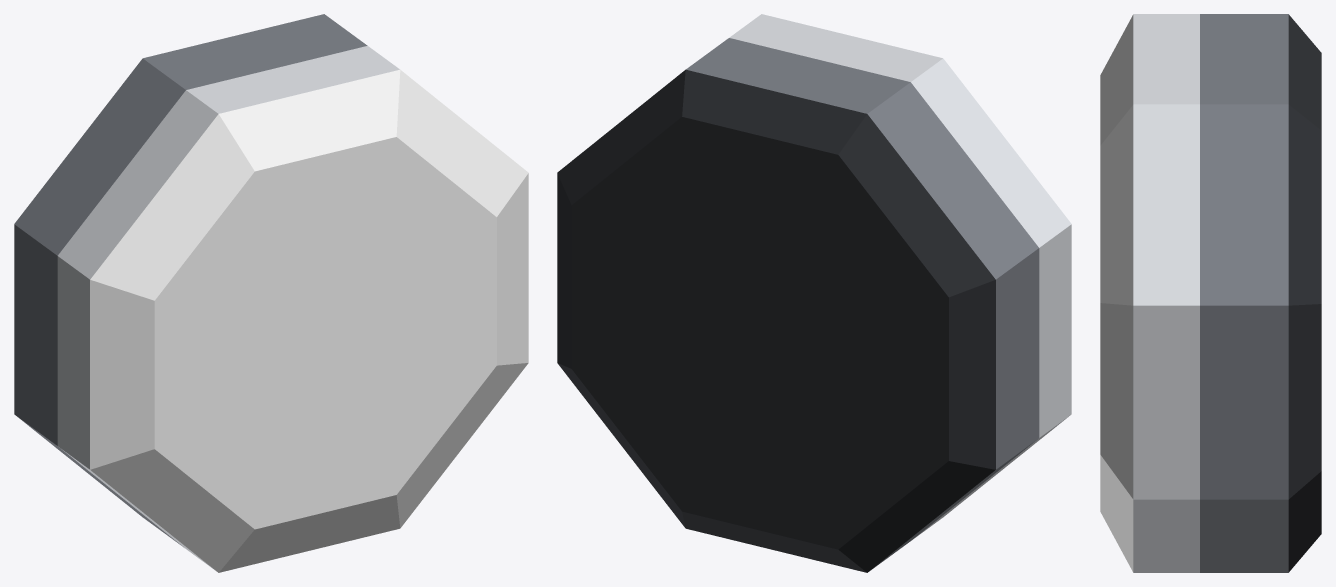
The model's file is ets.gltf.
The picture shows the model from 3 angles, left to right: view 1: azimuth 30°, elevation 25°; view 2: azimuth 150°, elevation 25°; view 3: azimuth 270°, elevation 25°; orthographic projection. The views are drawn at different scales.
Parts seen in each view (by area): view 1: ets; view 2: ets; view 3: ets.
Part boxes in pixels (bbox=[...]): ets: bbox=[14, 14, 528, 572]; ets: bbox=[557, 14, 1071, 572]; ets: bbox=[1100, 14, 1321, 572].
Size of the model in its own units: 7 by 7 by 3.
Materials: 1 (1 with a texture image).
